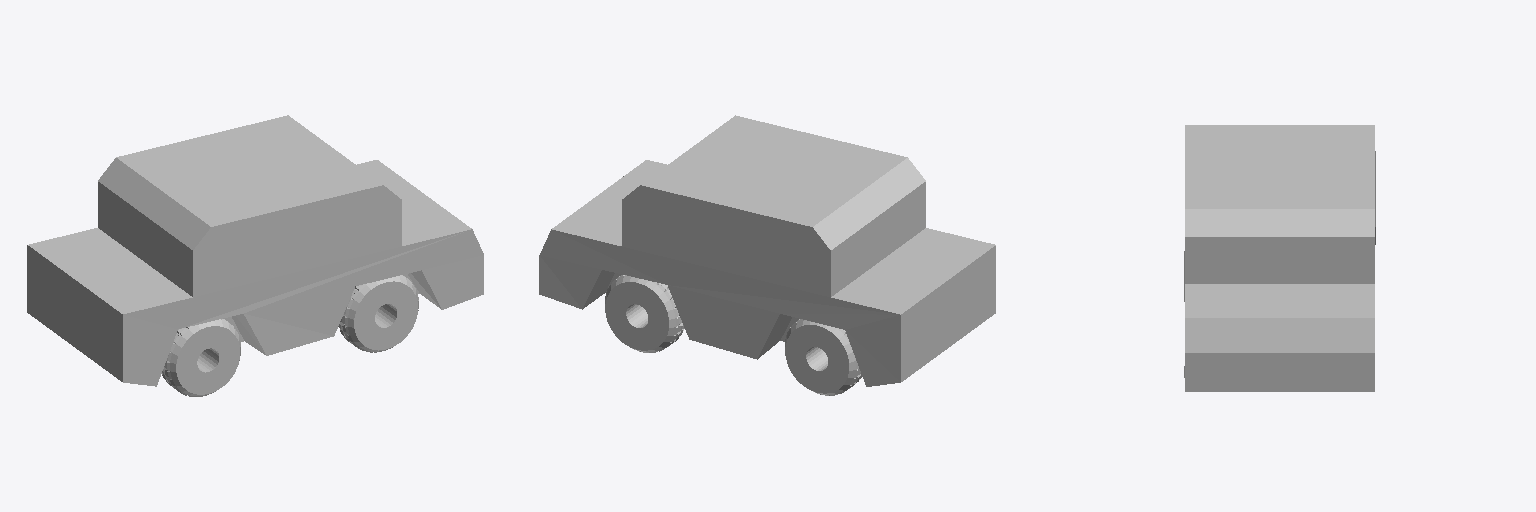
Rendered from enhui_car.obj.
3 views of the same model, side by side, from view 1: azimuth 30°, elevation 25°; view 2: azimuth 150°, elevation 25°; view 3: azimuth 270°, elevation 25° (orthographic).
Parts seen in each view (by area): view 1: pCube4; view 2: pCube4; view 3: pCube4.
Boxes of the visible parts, x1,y1,x2,y2 form: pCube4: [27, 115, 483, 396]; pCube4: [539, 115, 995, 395]; pCube4: [1184, 125, 1375, 391].
Size of the model in its own units: 5.56 by 2.53 by 2.55.